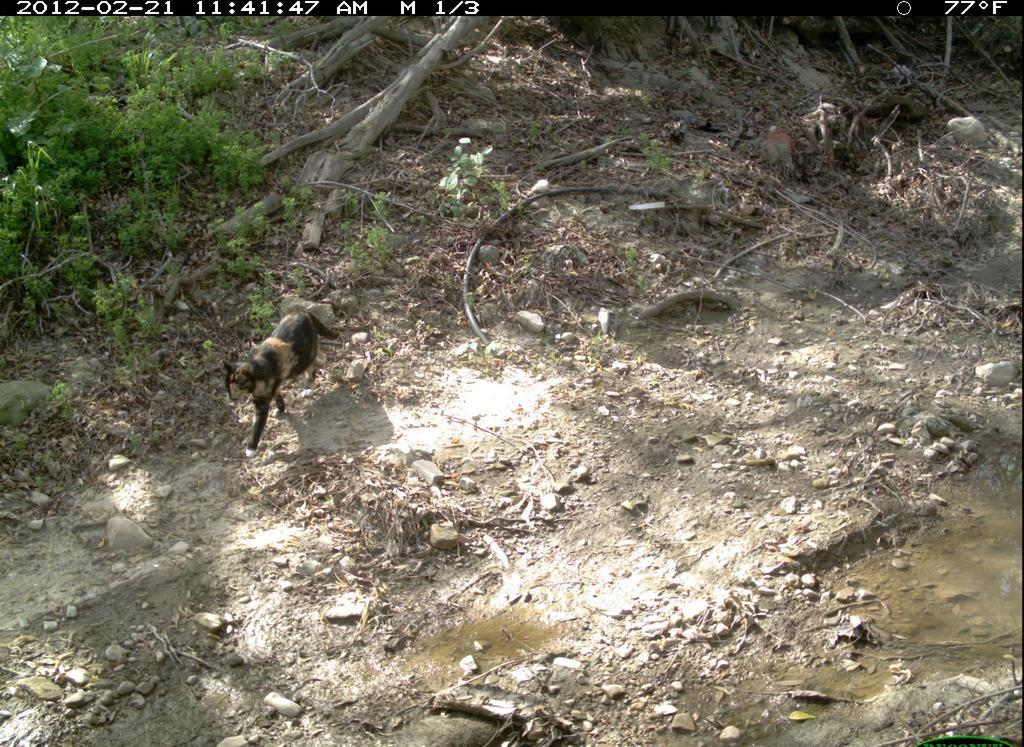cat: (223, 306, 342, 459)
